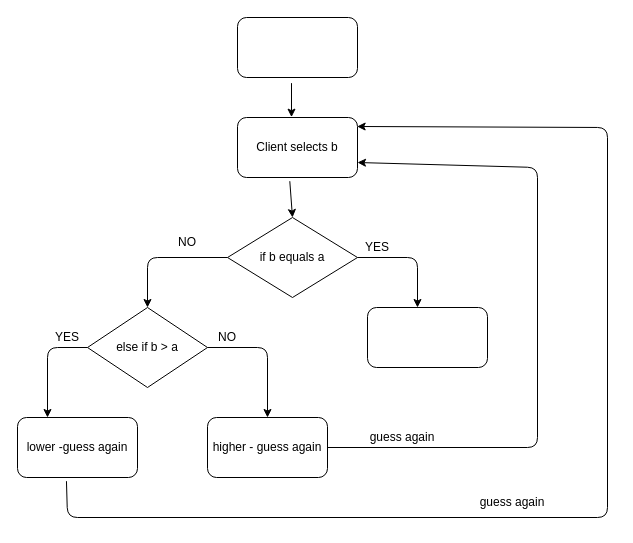
This 633x543 diagram has some shape labels left out. Here are the shapes that lost their labels. From the top down, the centre of each, then its label:
At (297,47): "PC selects a".
At (427,337): "you guessed the computer number".
